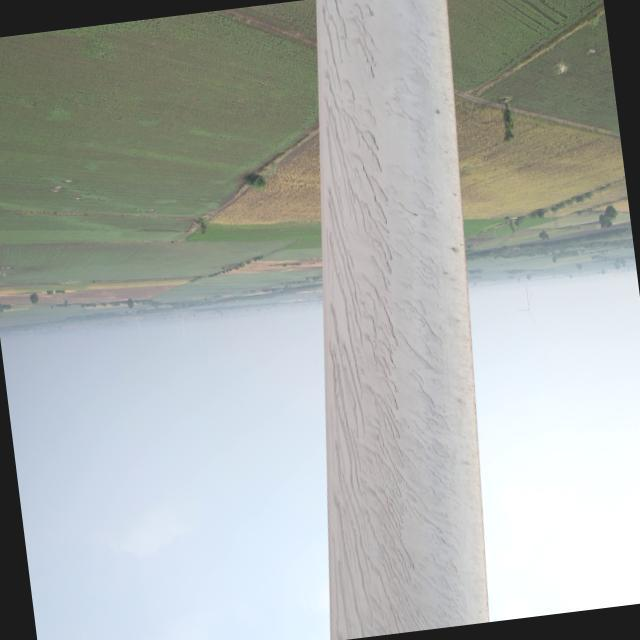Dirt: (319, 1, 457, 640)
Pin Hole: (446, 235, 467, 258), (431, 100, 443, 119)
